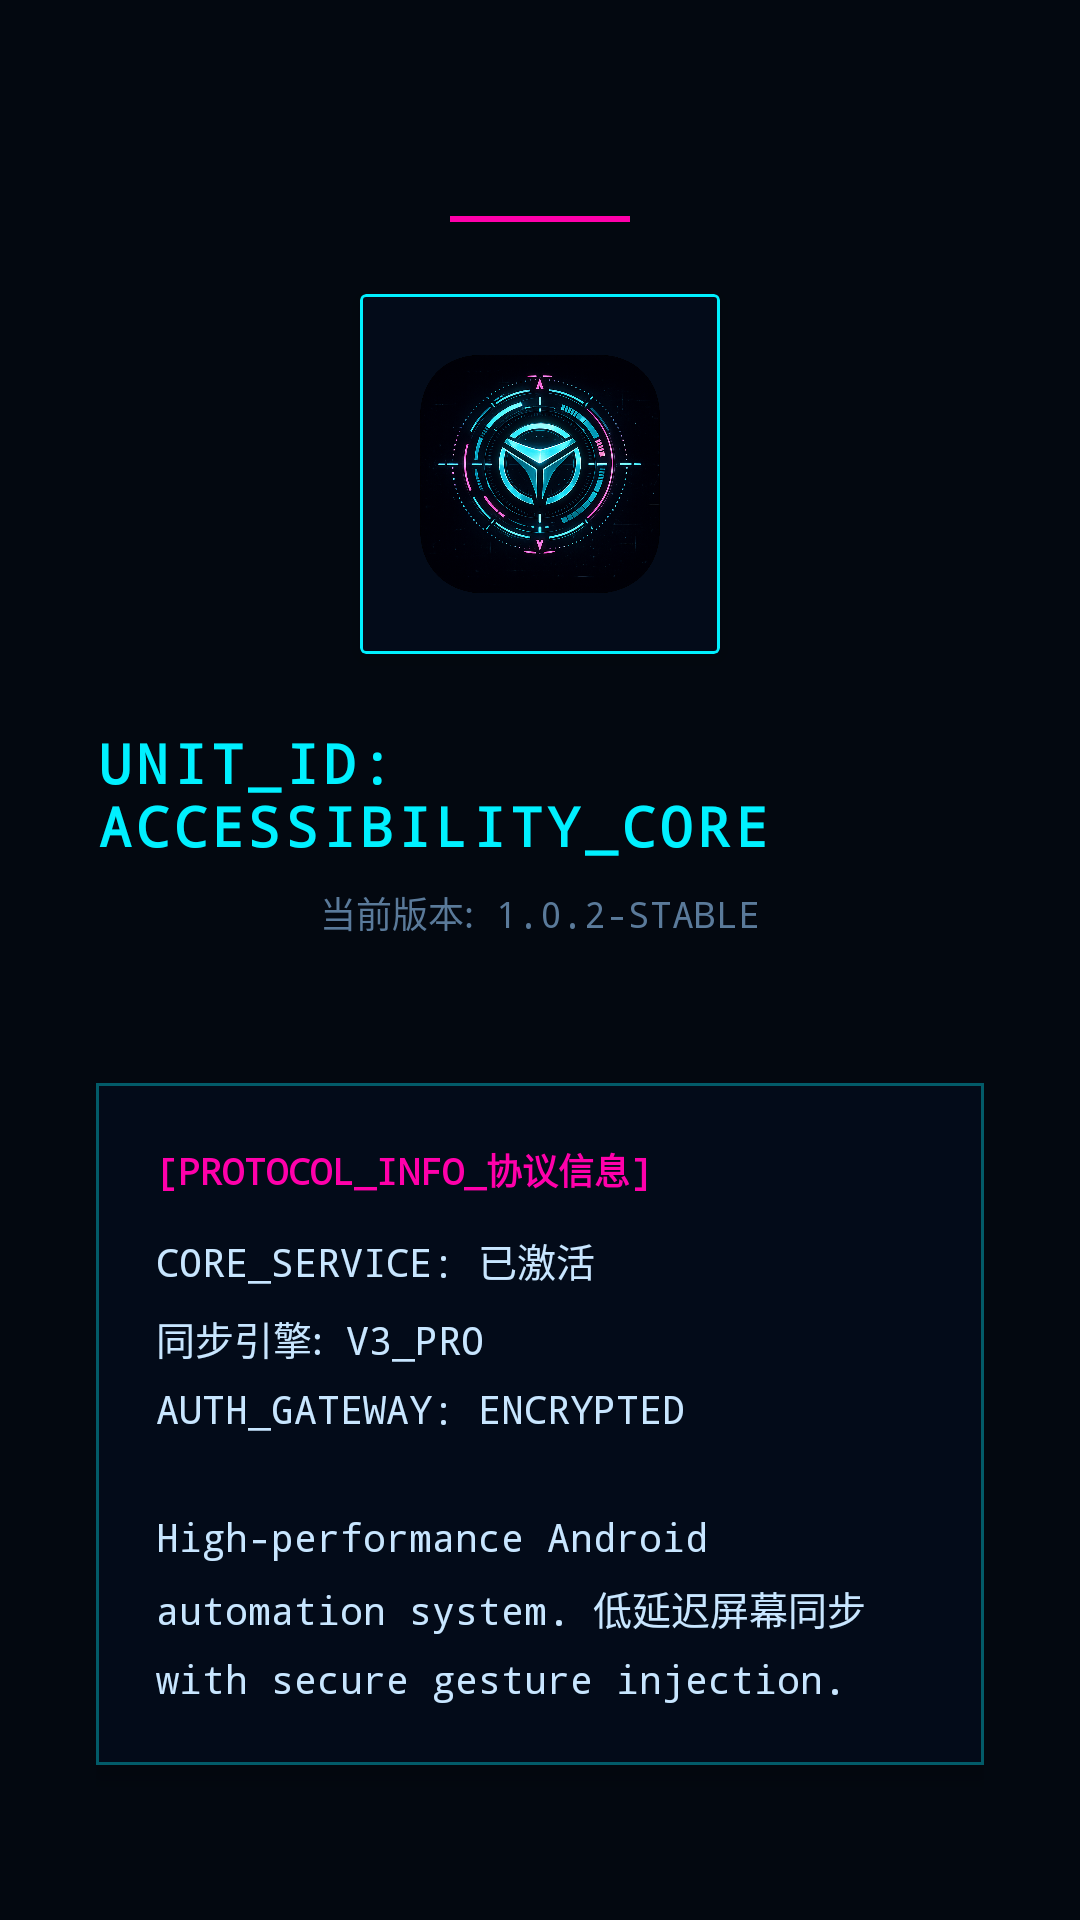

Screen size 1080x1920. Icon name, then its center in pixels as (x=x, y=y):
app: (x=540, y=474)
